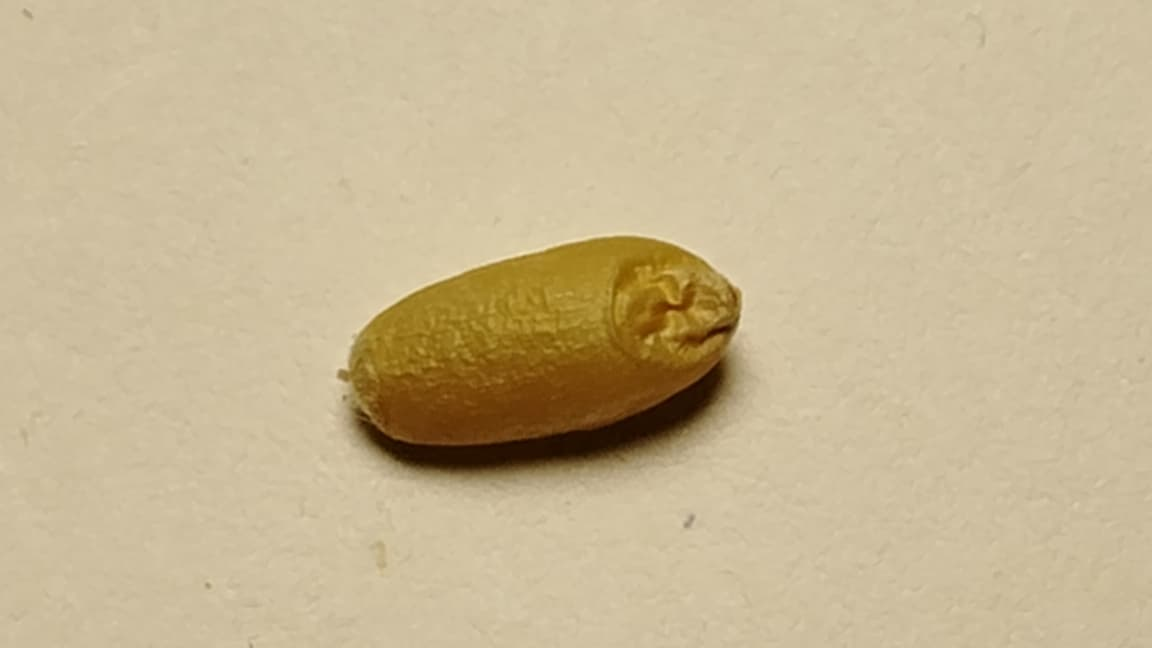healthy: (339, 234, 740, 440)
